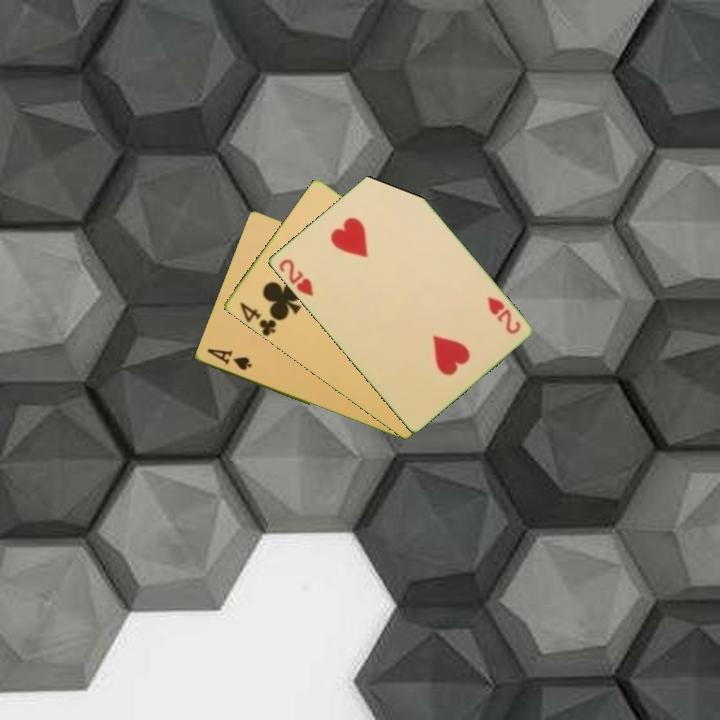2h: (275, 255, 316, 299), (483, 293, 523, 337)
4c: (236, 298, 279, 339)
As: (203, 345, 255, 373)
